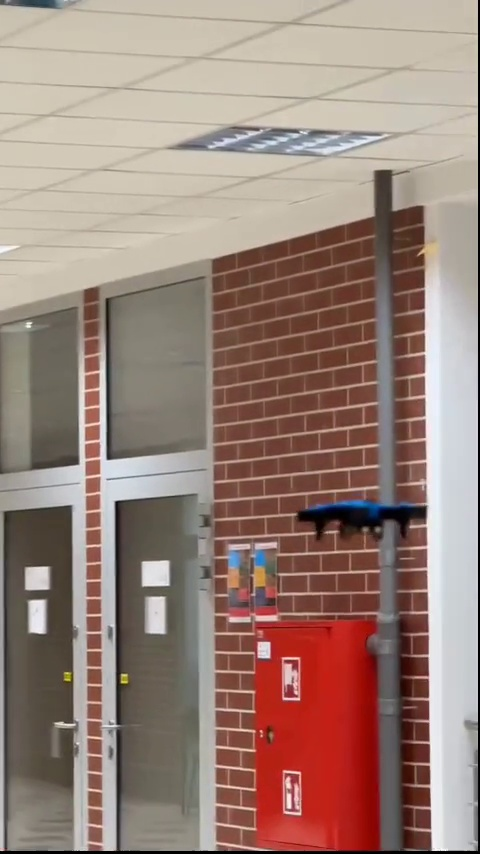drone: (296, 497, 429, 529)
